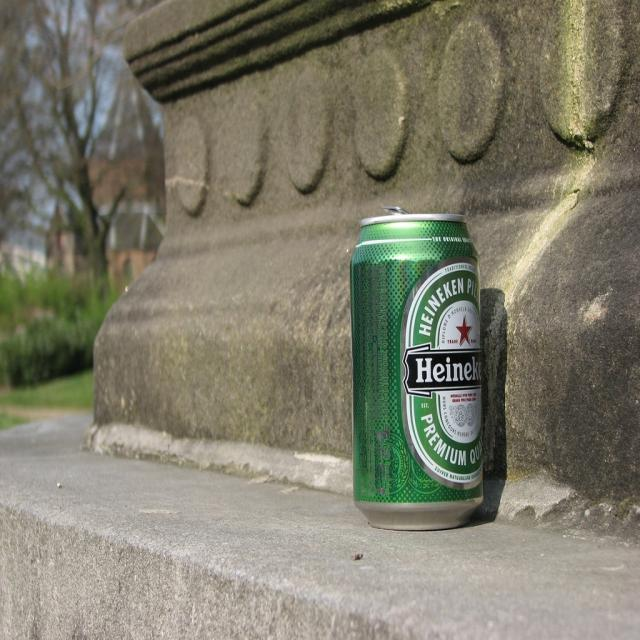heineken: (401, 258, 483, 492)
